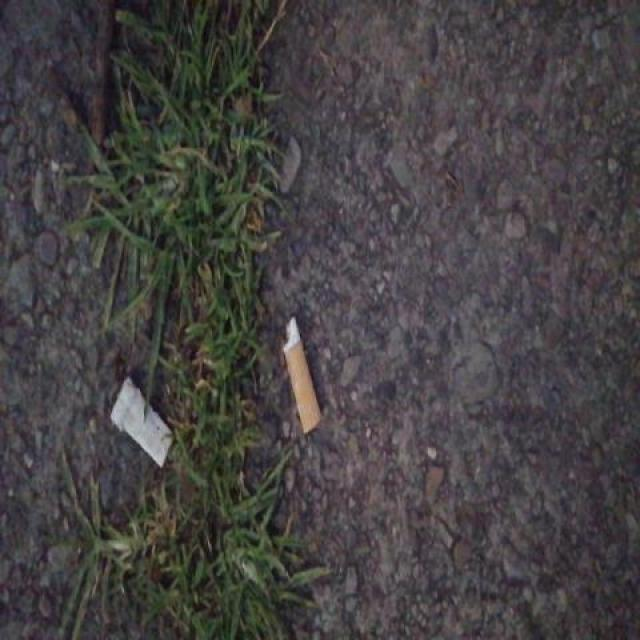non-organic waste: (108, 371, 180, 472), (277, 312, 328, 440)
